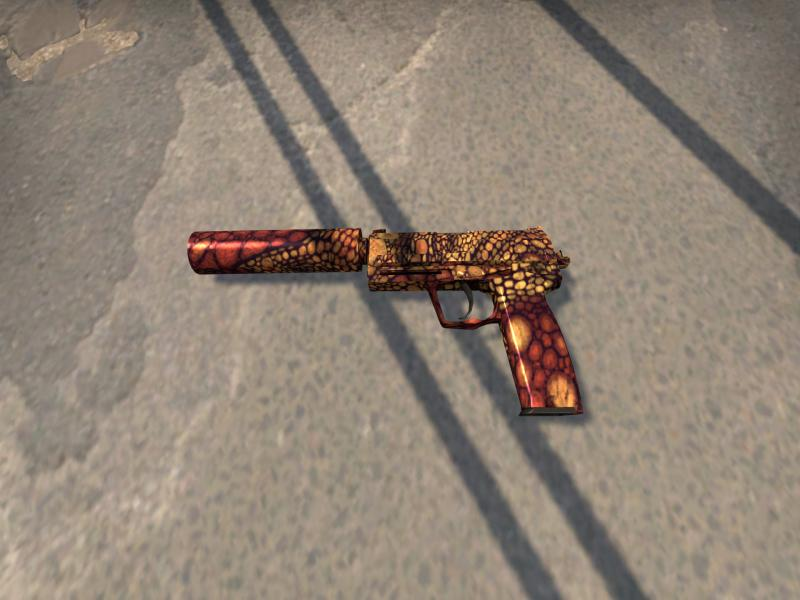USP: (188, 227, 583, 414)
